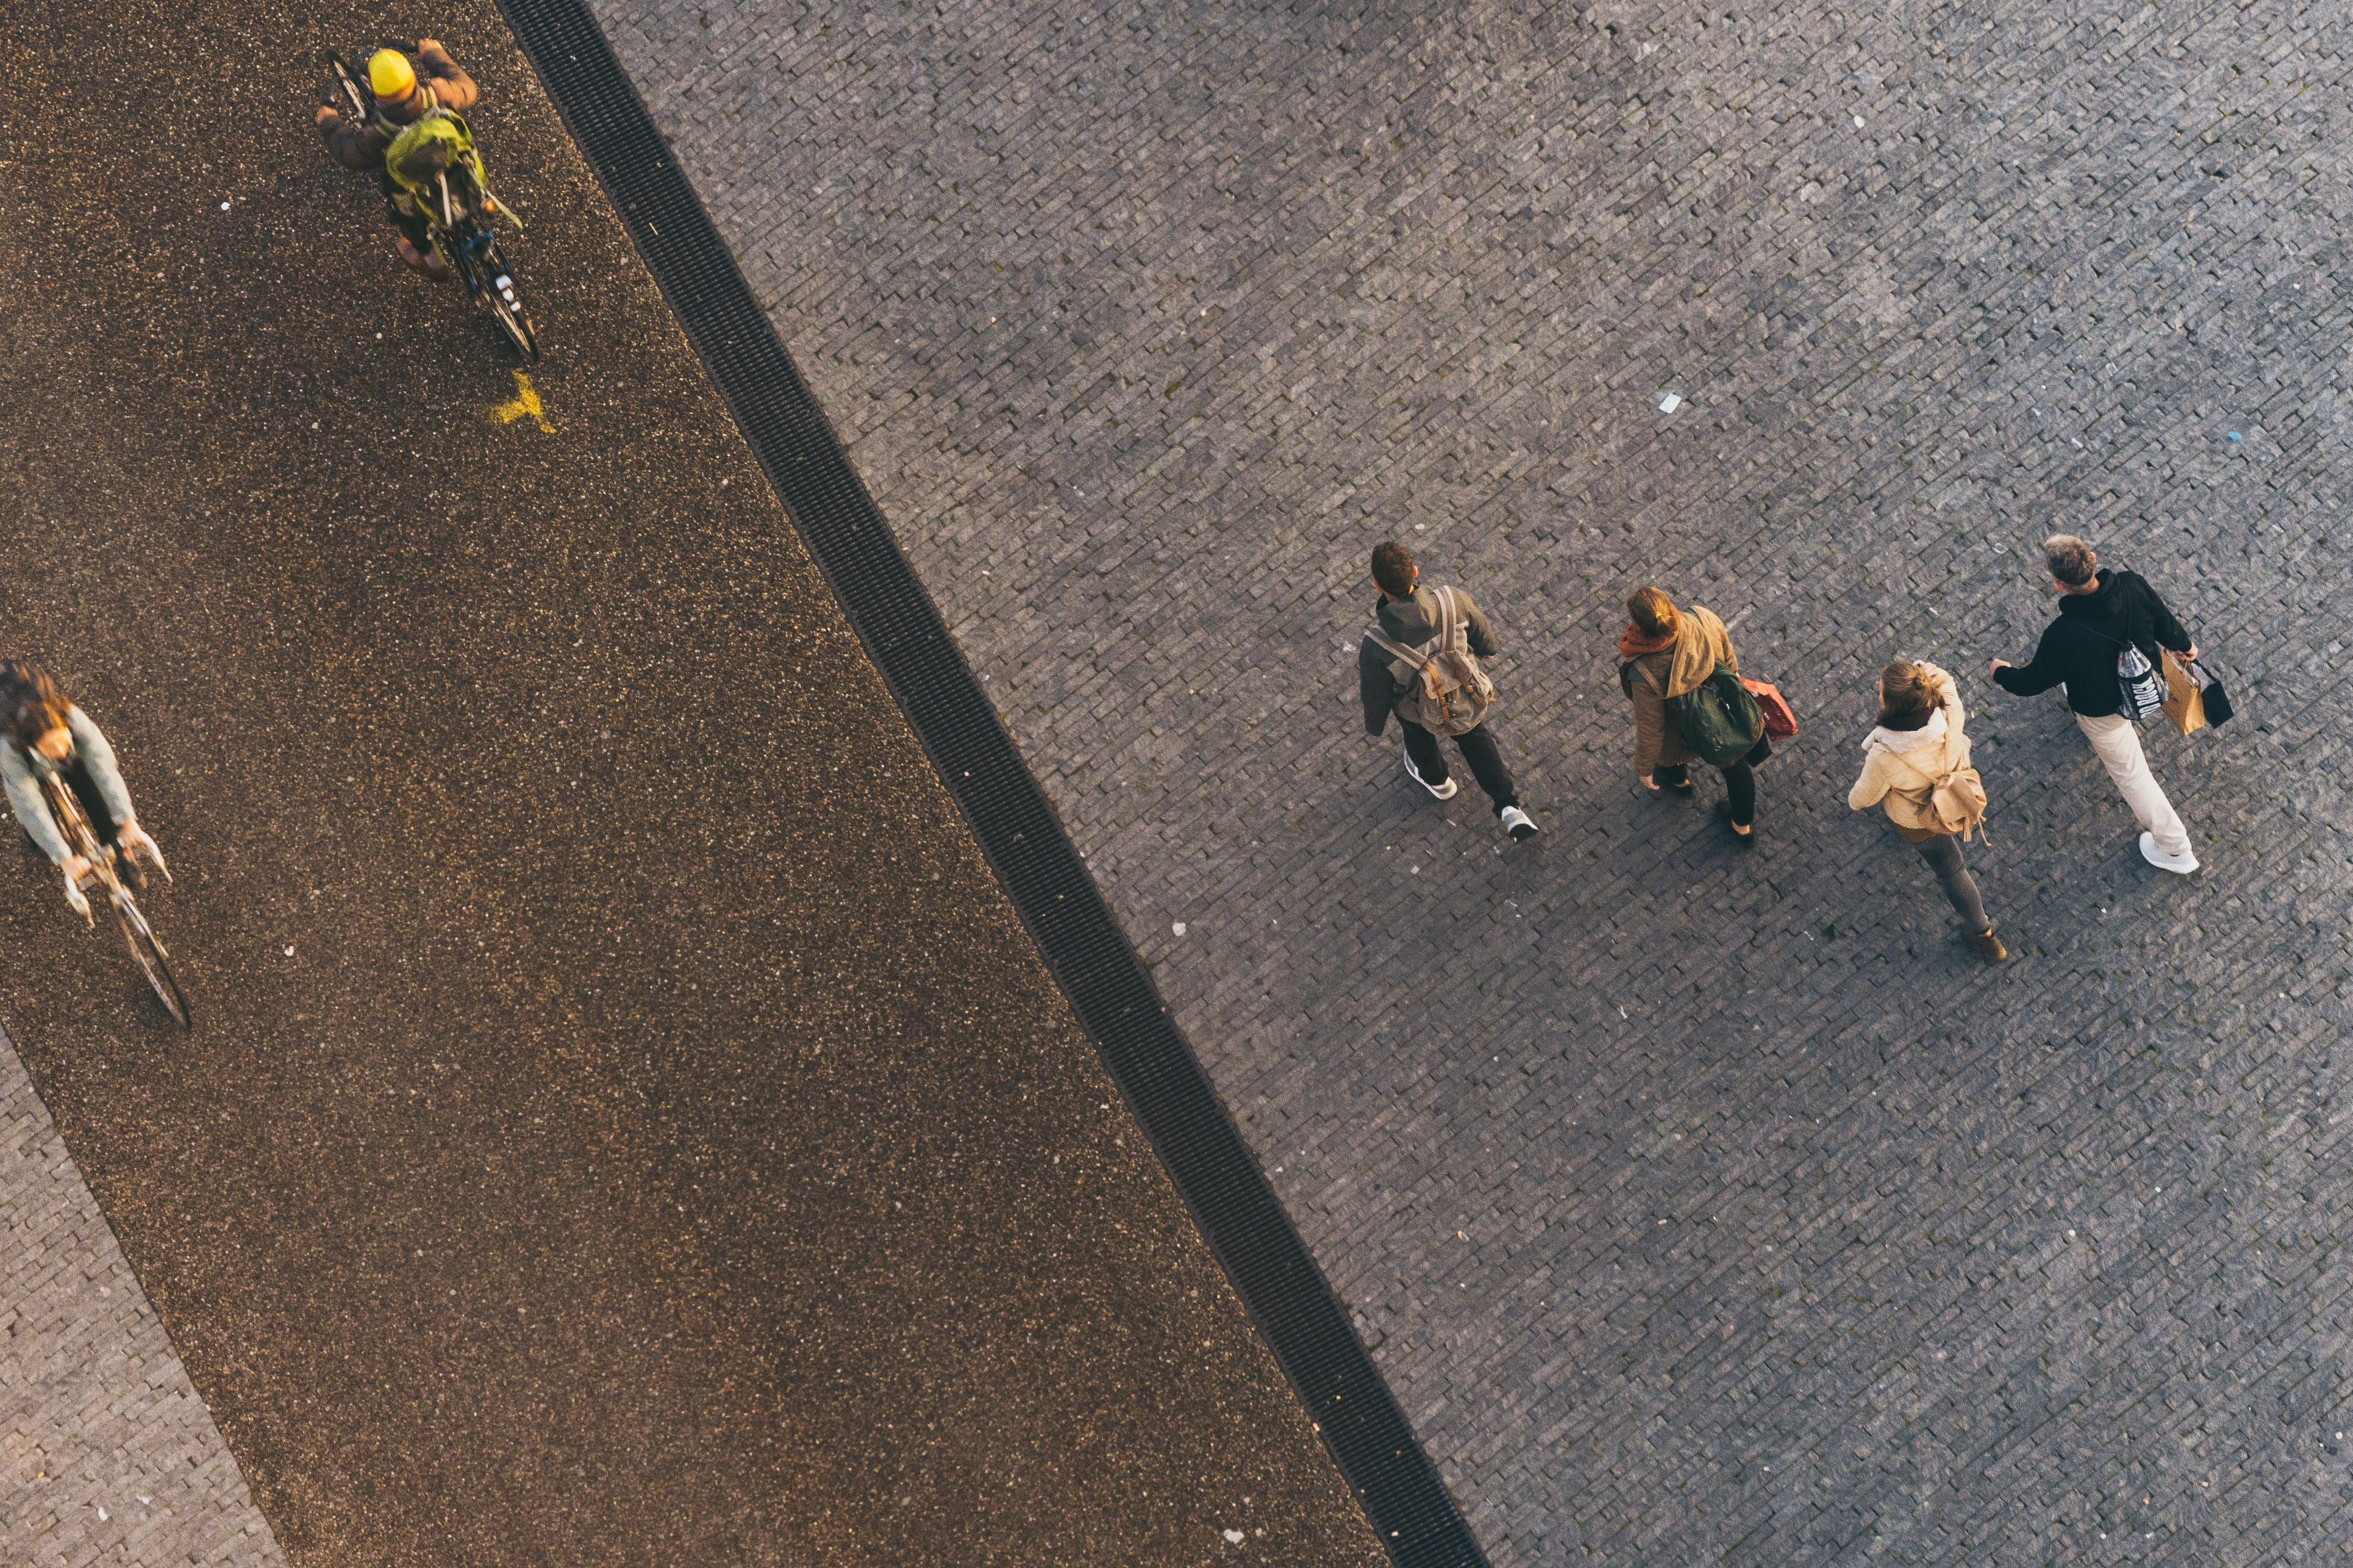person: (2019, 523, 2225, 894), (1351, 543, 1552, 842), (1839, 647, 2011, 962), (1605, 579, 1768, 848)
